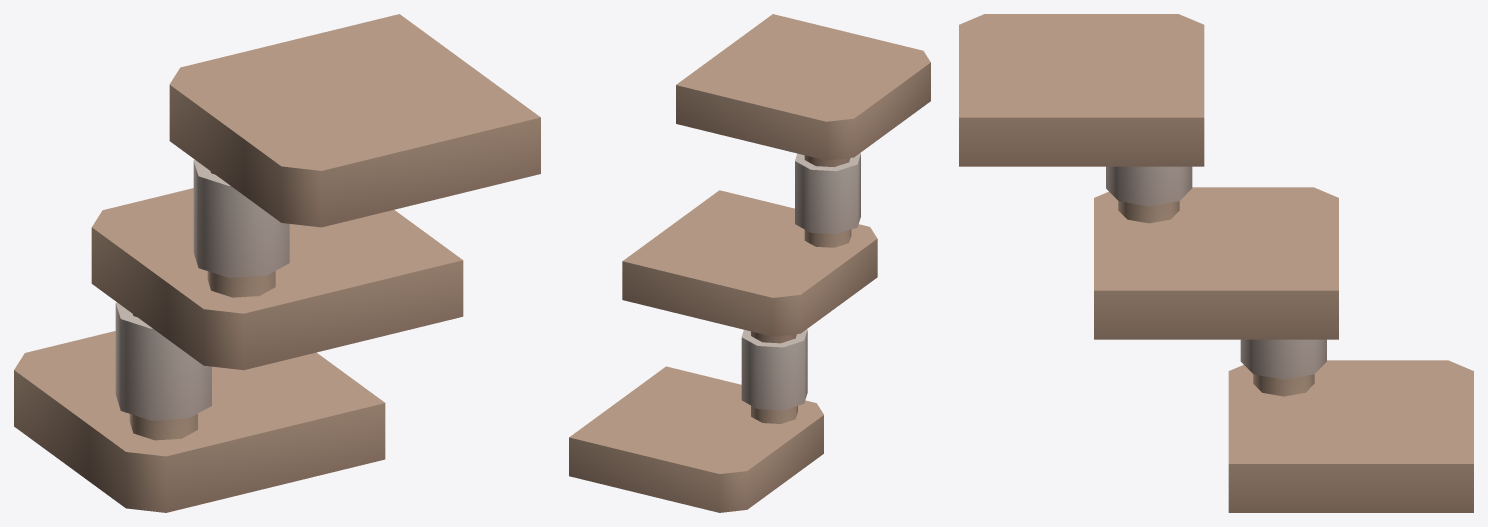
The model's file is cat-shelf-steps (%wall).glb.
The picture shows the model from 3 angles, left to right: view 1: azimuth 30°, elevation 25°; view 2: azimuth 150°, elevation 25°; view 3: azimuth 270°, elevation 25°; orthographic projection. The views are drawn at different scales.
Visible parts, largest first — view 1: cat-shelf-steps (%wall); view 2: cat-shelf-steps (%wall); view 3: cat-shelf-steps (%wall).
Boxes of the visible parts, x1,y1,x2,y2 form: cat-shelf-steps (%wall): (14,14,540,512); cat-shelf-steps (%wall): (569,14,930,512); cat-shelf-steps (%wall): (959,14,1473,512).
Bounding box in the file's own units: 0.33 × 0.5872 × 0.693.
